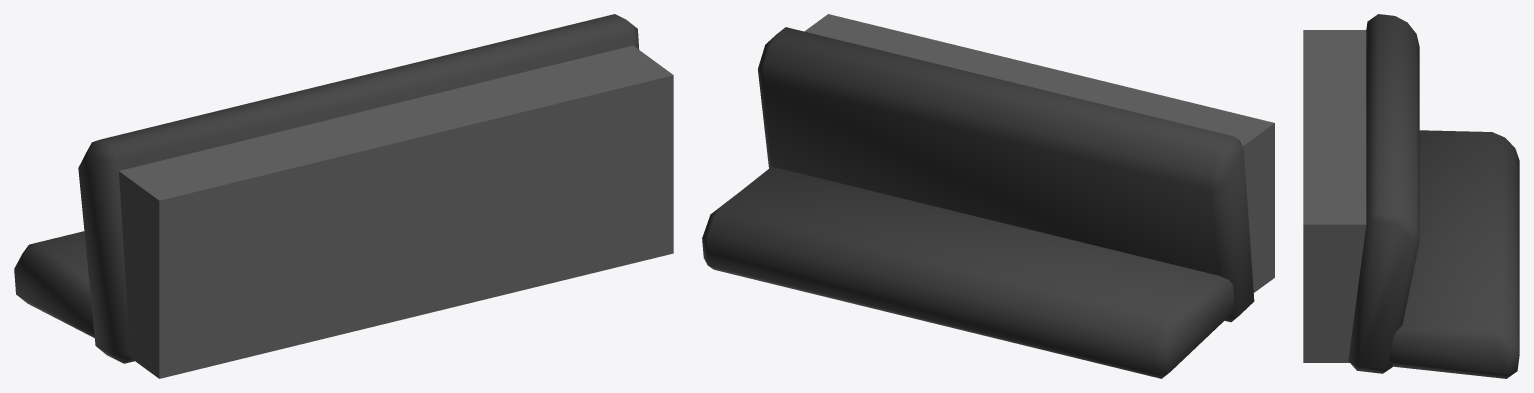
Rendered from sofa-b.glb.
The picture shows the model from 3 angles, left to right: view 1: azimuth 30°, elevation 25°; view 2: azimuth 150°, elevation 25°; view 3: azimuth 270°, elevation 25°; orthographic projection. The views are drawn at different scales.
Visible parts, largest first — view 1: sofa_015; view 2: sofa_015; view 3: sofa_015.
Part boxes in pixels (x1,y1,x2,y2): sofa_015: (14,14,673,378); sofa_015: (702,14,1274,378); sofa_015: (1303,14,1519,378).
Bounding box in the file's own units: 1.84 × 0.7178 × 0.8284.
Materials: 1 (1 with a texture image).
